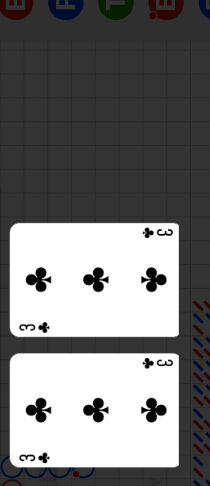3C: (140, 356, 175, 371), (140, 226, 175, 240)
